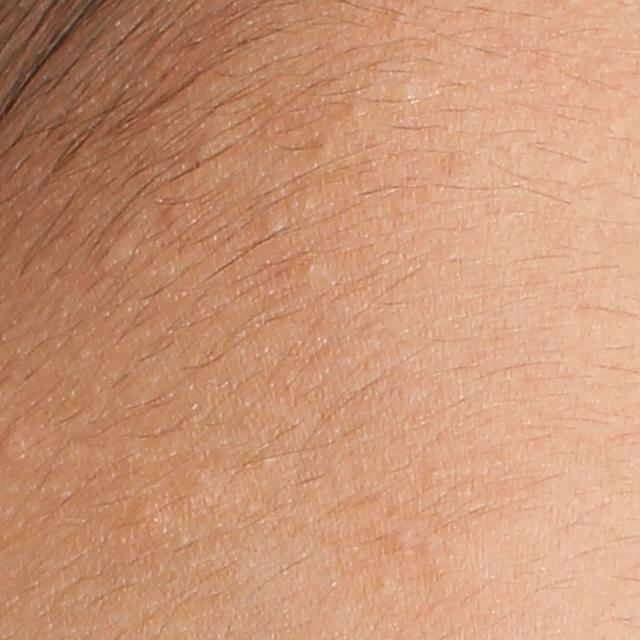comedo: (124, 495, 165, 541), (93, 237, 136, 275), (304, 132, 341, 170), (387, 81, 422, 112), (374, 575, 392, 594)
